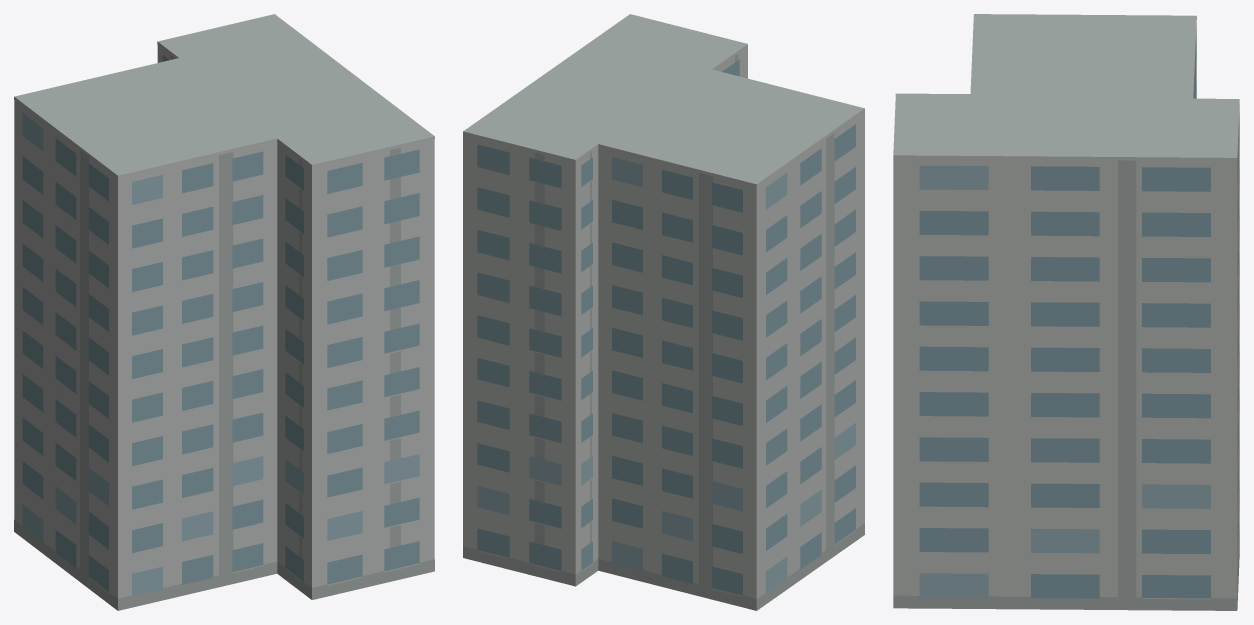
File: residential-53c93c19-5e24-43db-85ad-ffe3f893a456.glb
3 views of the same model, side by side, from view 1: azimuth 30°, elevation 25°; view 2: azimuth 150°, elevation 25°; view 3: azimuth 270°, elevation 25° (orthographic). The views are drawn at different scales.
Visible parts, largest first — view 1: residential-53c93c19-5e24-43db-85ad-ffe3f893a456.tmp; view 2: residential-53c93c19-5e24-43db-85ad-ffe3f893a456.tmp; view 3: residential-53c93c19-5e24-43db-85ad-ffe3f893a456.tmp.
Boxes of the visible parts, x1,y1,x2,y2 form: residential-53c93c19-5e24-43db-85ad-ffe3f893a456.tmp: [14, 14, 434, 610]; residential-53c93c19-5e24-43db-85ad-ffe3f893a456.tmp: [463, 14, 864, 610]; residential-53c93c19-5e24-43db-85ad-ffe3f893a456.tmp: [893, 14, 1239, 610].
Size of the model in its own units: 22.36 by 32.8 by 22.74.
